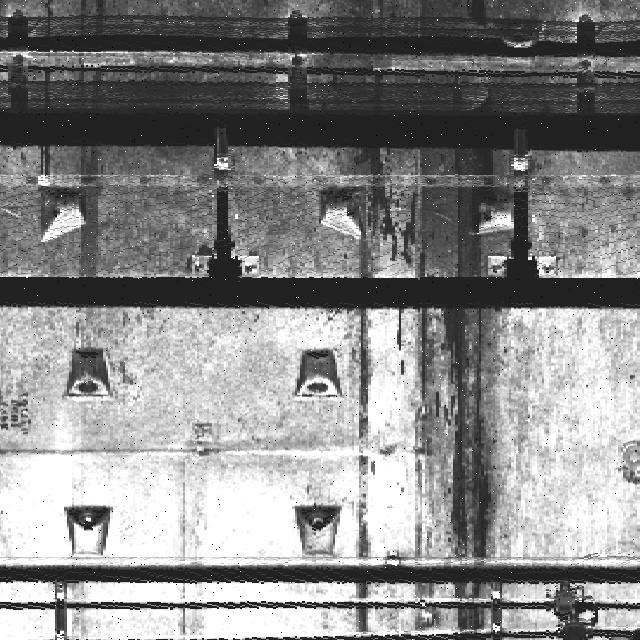leakage: (392, 146, 514, 633), (71, 150, 106, 284)
